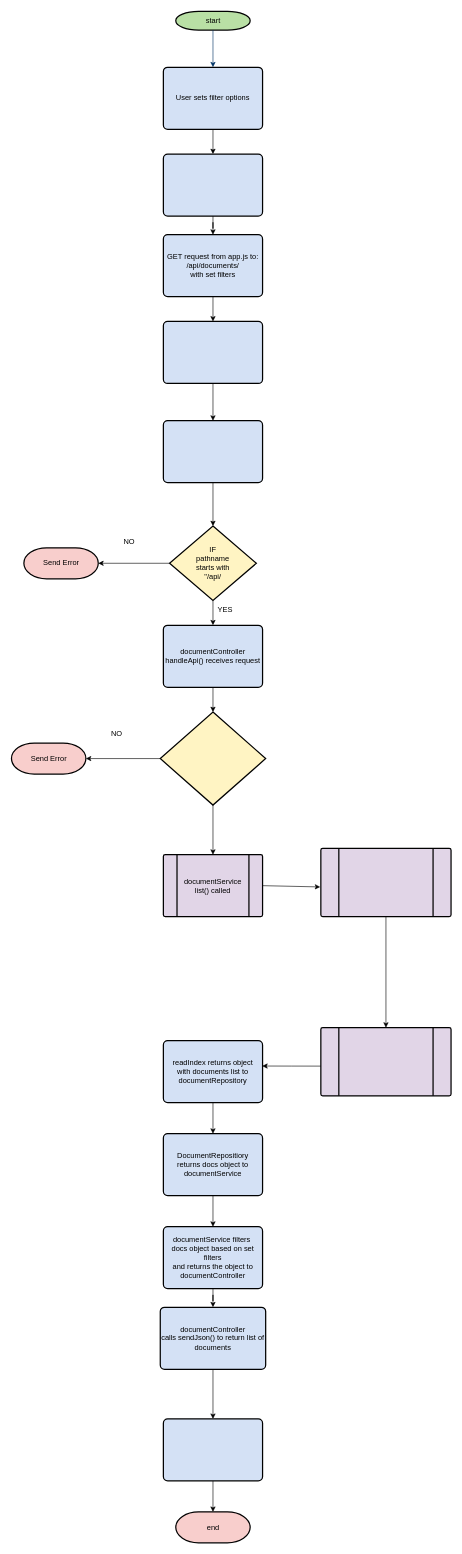
Image size: 462x1554. Some labels were removed from this diagram. Each missing label, with the box of its shape:
DocumentRepository.list() calls readIndex() from fileStore.js: (320, 1027, 451, 1096)
documentService calls DocumentRepository.list(): (320, 848, 451, 917)
IF req.method = GET && pathname = /api/documents: (159, 711, 266, 805)
Router receives request: (162, 420, 263, 483)
sendJson() from response.js receives response and sends it to client app.js: (162, 1418, 263, 1481)
Server.js receives request: (162, 321, 263, 384)
User clicks "Apply Filter" button: (162, 153, 263, 216)
